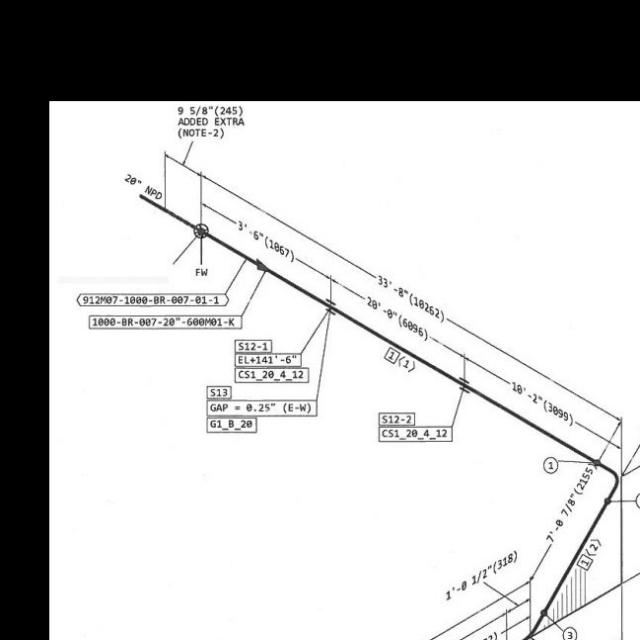Item number: (234, 337, 275, 355), (376, 411, 417, 427), (381, 344, 404, 367), (206, 385, 232, 401)
Measrement: (201, 168, 620, 428), (461, 348, 612, 446), (328, 273, 470, 366), (199, 198, 335, 287), (526, 462, 598, 591), (418, 583, 525, 639)
Pipeline: (137, 192, 618, 564)
Symbol: (593, 446, 631, 509)
Weld number: (542, 455, 560, 476), (562, 625, 578, 639)
other: (441, 542, 520, 600), (173, 105, 248, 141), (74, 292, 232, 308), (202, 398, 319, 419), (84, 316, 243, 331), (233, 367, 310, 387), (377, 427, 455, 444)
